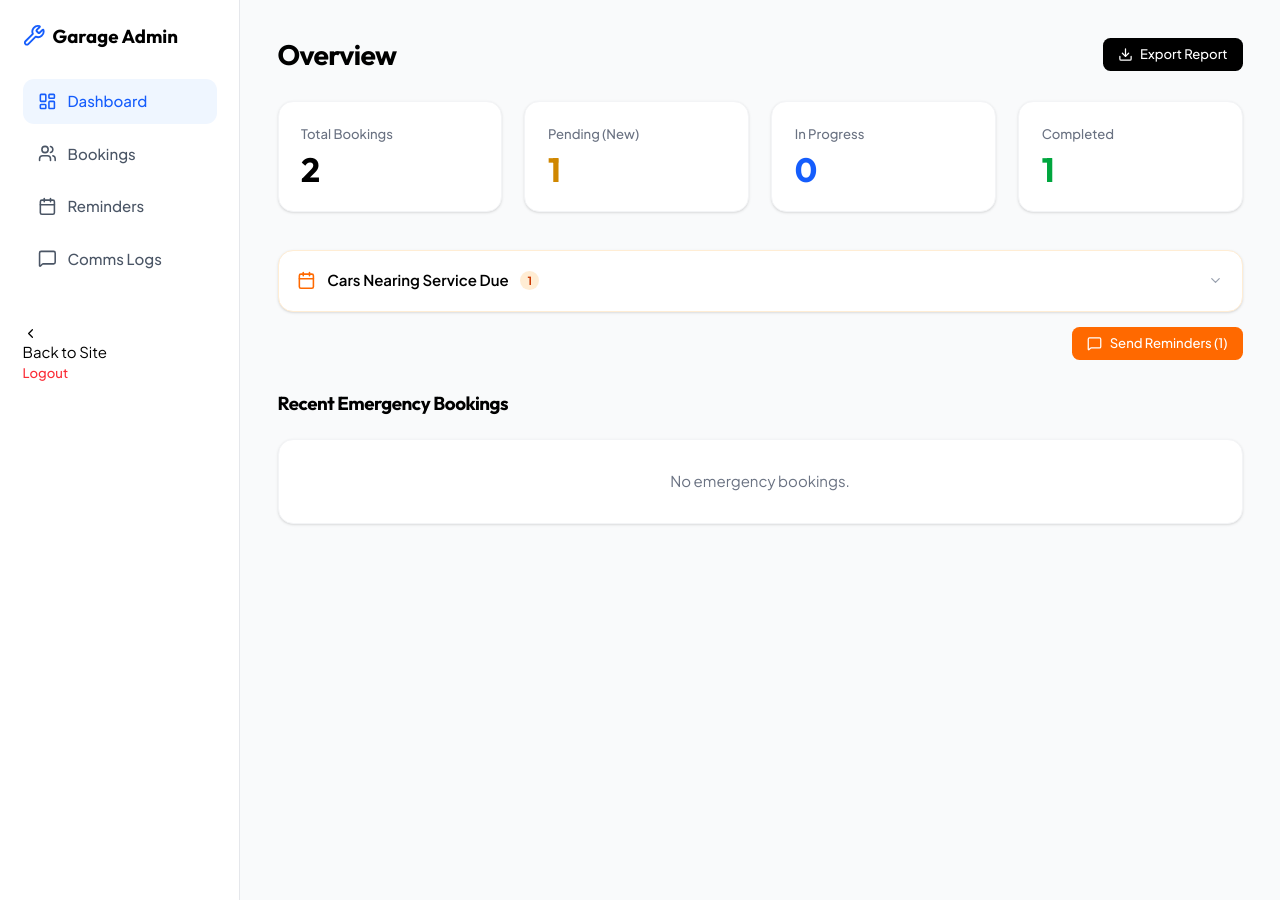
Test: Admin Dashboard — Nearing Due Card › nearing due card expands to show due records
Step 1. Click the text "Cars Nearing Service Due" → x=418, y=281, box [327,269,509,292]
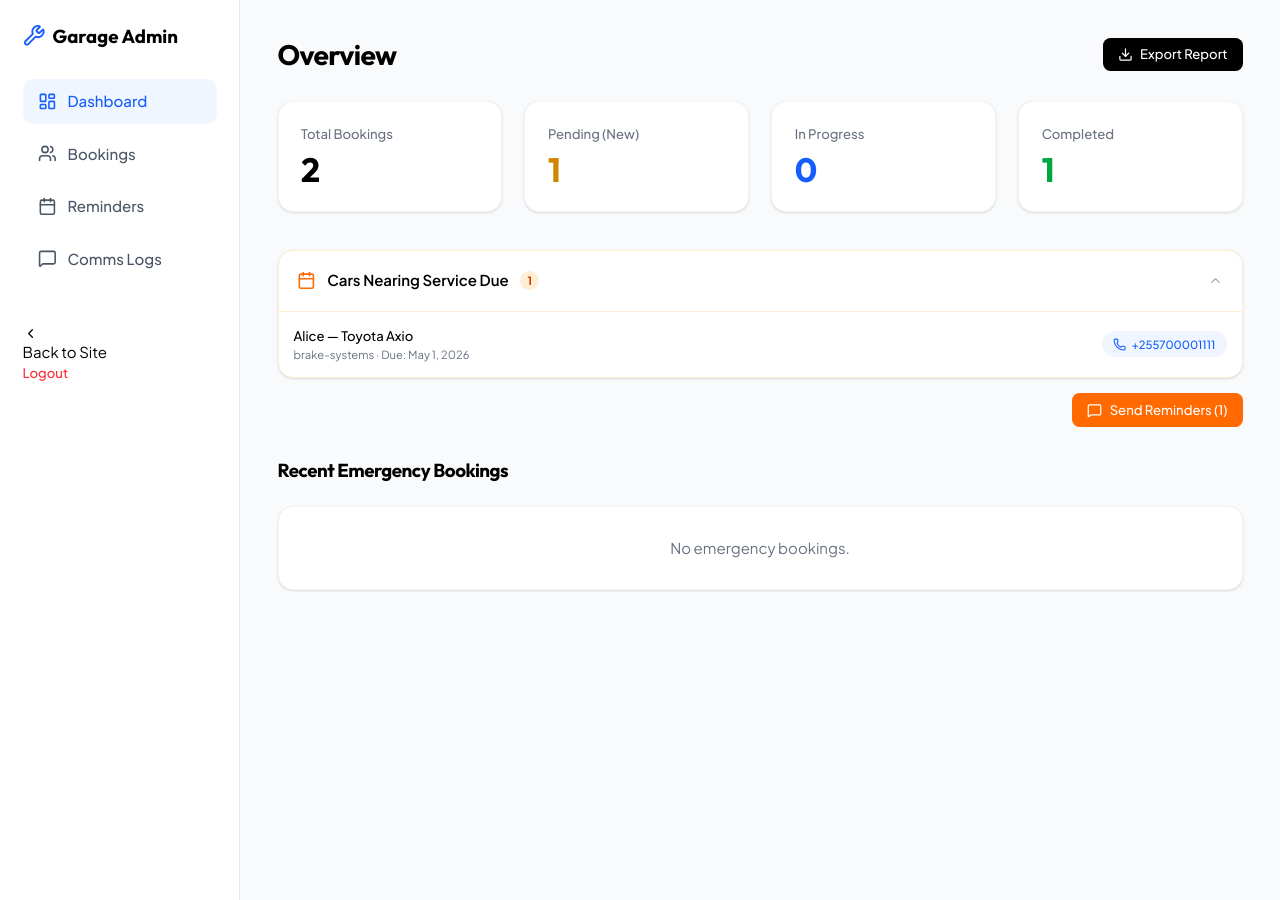
Expected: the text "Alice — Toyota Axio" is shown, [294,326,413,344]
